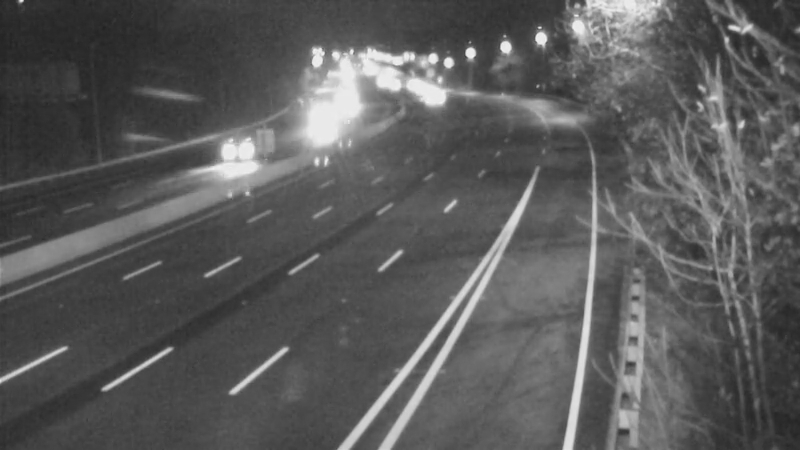vehicle: (385, 59, 435, 109), (398, 63, 448, 113), (408, 74, 458, 124), (210, 119, 260, 169), (294, 102, 344, 152)
